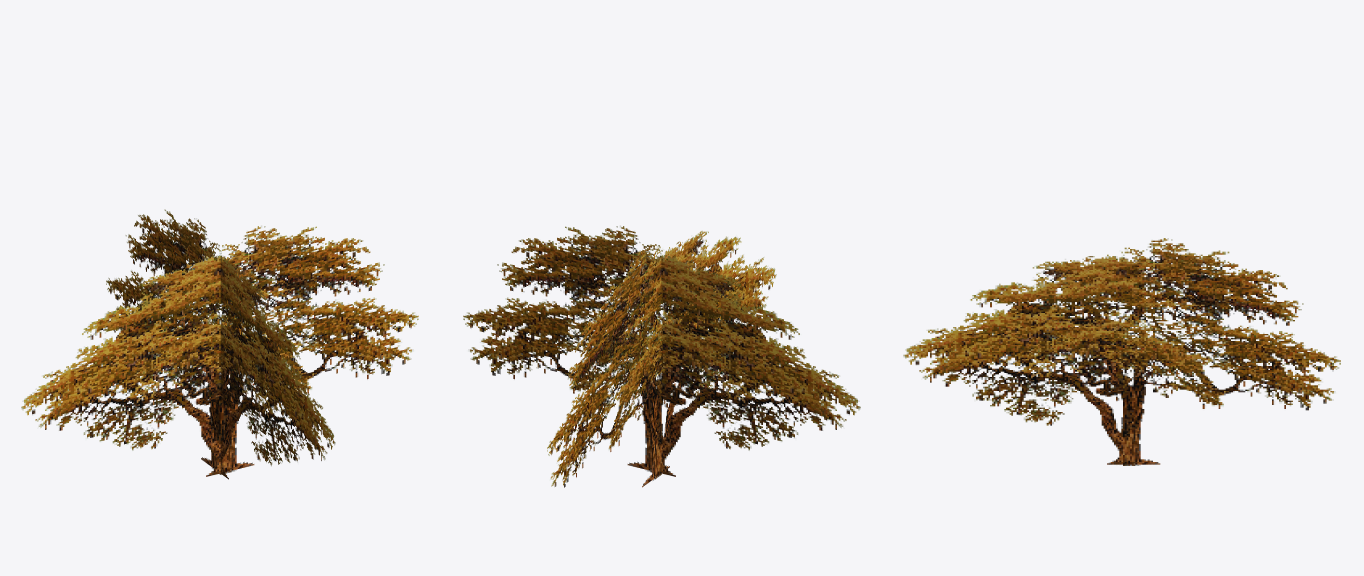
Rendered from tree_v2_02.glb.
3 renders of one model, left to right at view 1: azimuth 30°, elevation 25°; view 2: azimuth 150°, elevation 25°; view 3: azimuth 270°, elevation 25°, orthographic. The views are drawn at different scales.
Visible parts, largest first — view 1: tree_v2_02; view 2: tree_v2_02; view 3: tree_v2_02.
Boxes of the visible parts, box(x1,y1,x2,y2) form: tree_v2_02: box(21, 209, 418, 479); tree_v2_02: box(463, 226, 860, 487); tree_v2_02: box(903, 238, 1340, 465).
Size of the model in its own units: 15 by 13 by 15.
1 material, 1 textured.
